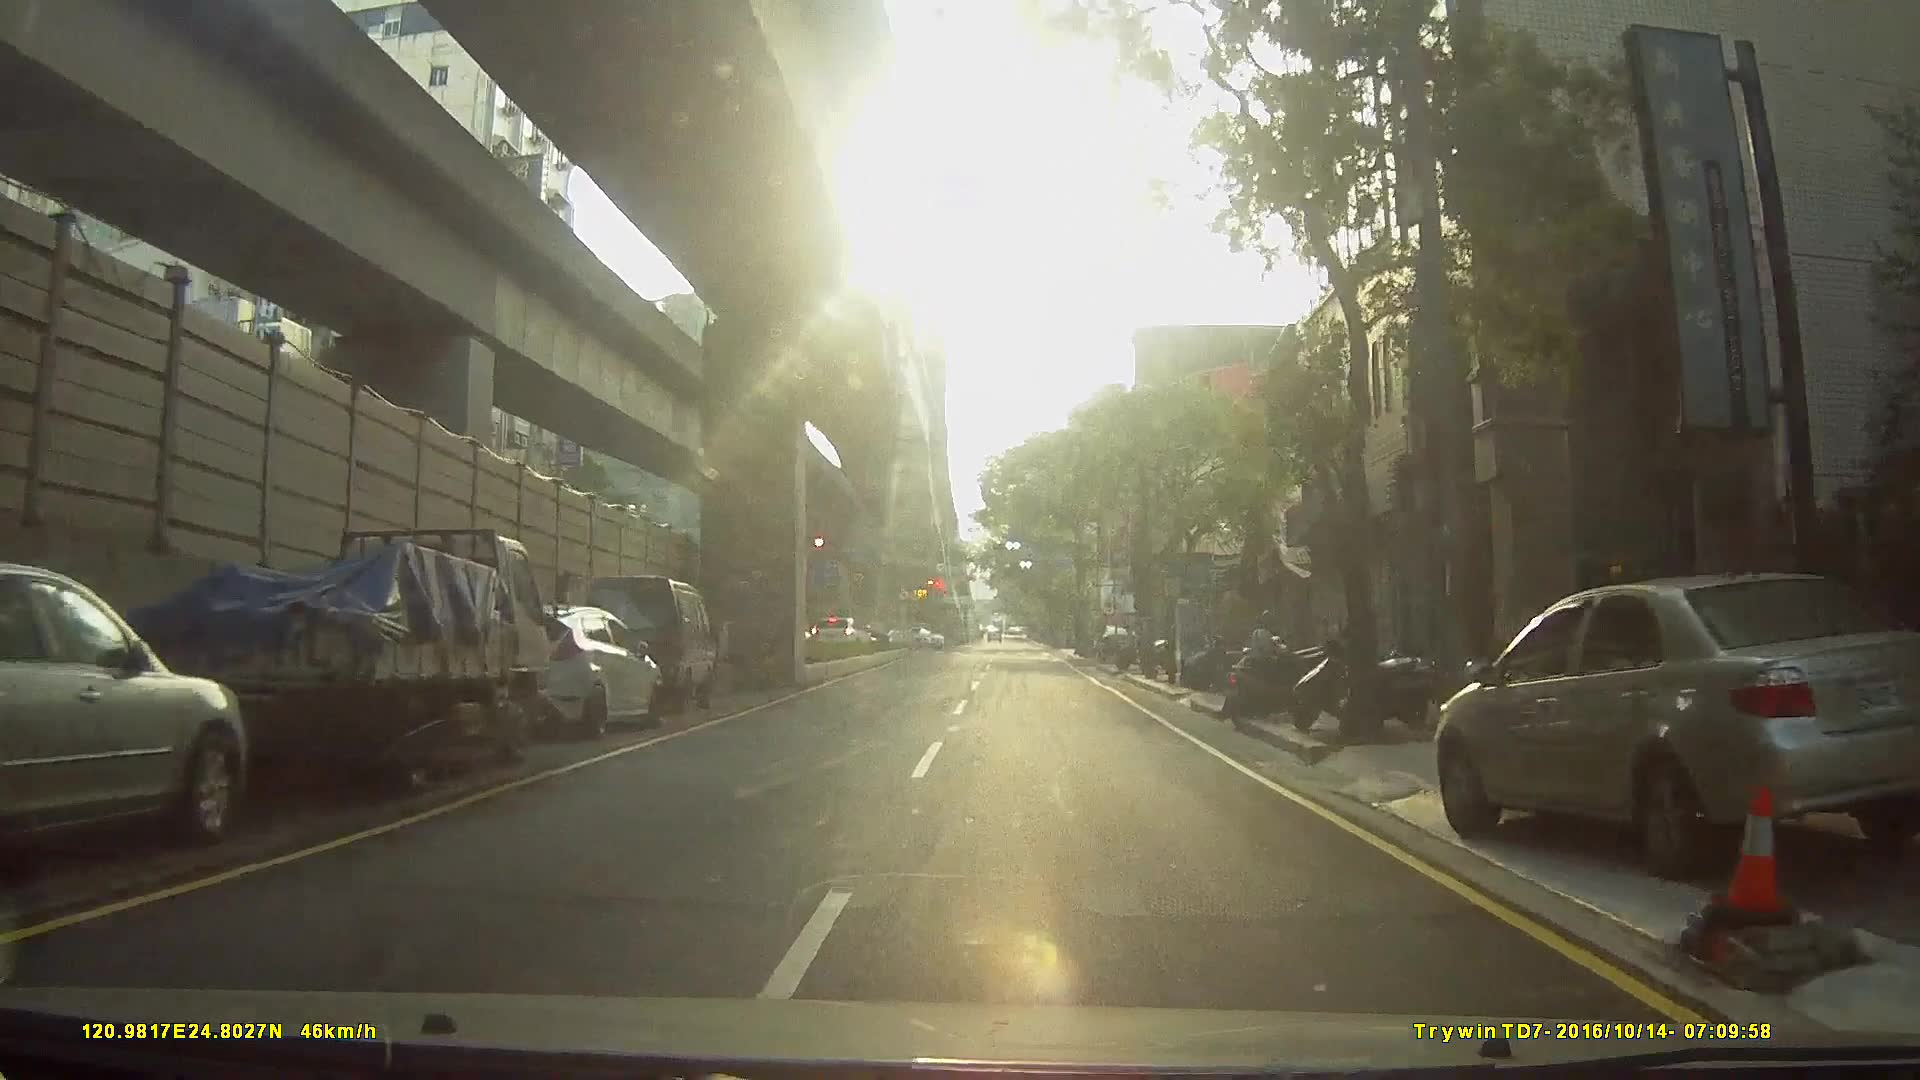rider: (1222, 610, 1324, 733)
vehicle: (1422, 566, 1920, 896), (89, 522, 578, 803), (1, 554, 258, 881), (463, 600, 661, 744), (570, 572, 713, 715), (805, 616, 867, 655), (1092, 624, 1138, 662), (884, 623, 944, 650)
